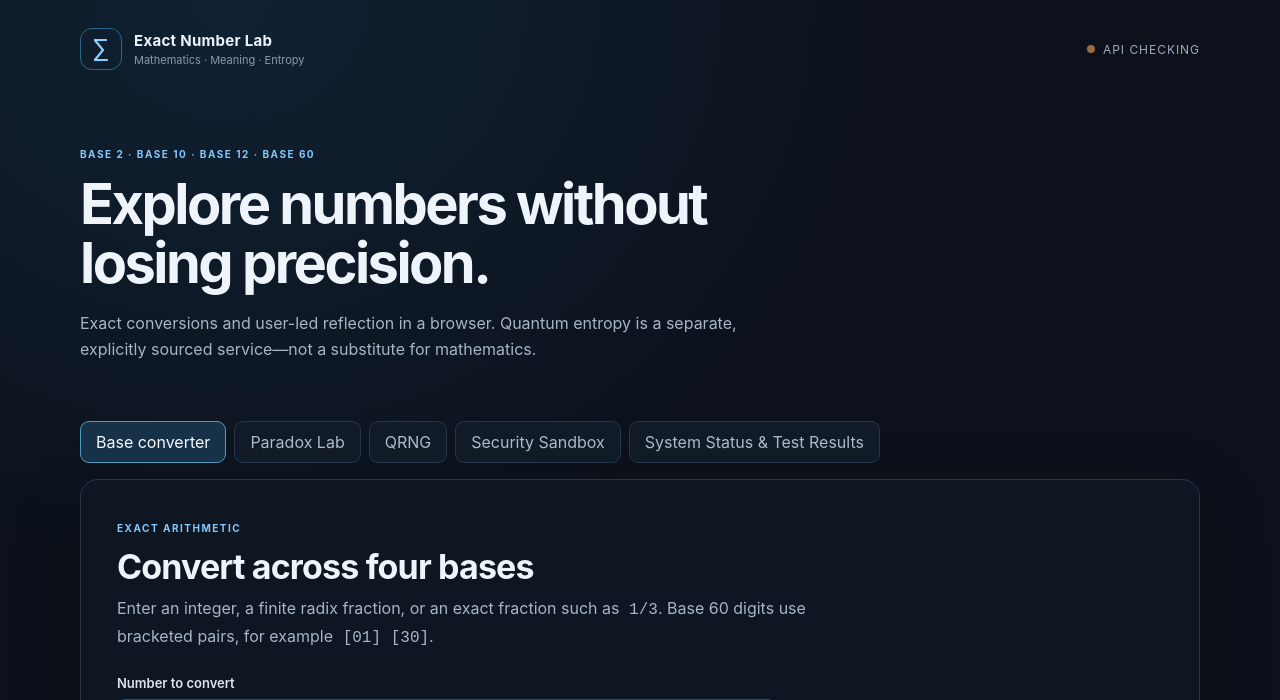
application interactions › rejects QRNG samples with mismatched provenance metadata
Click the button "QRNG". click: (408, 442)
box: x1=369 y1=420 x2=447 y2=462
(page scrolled)
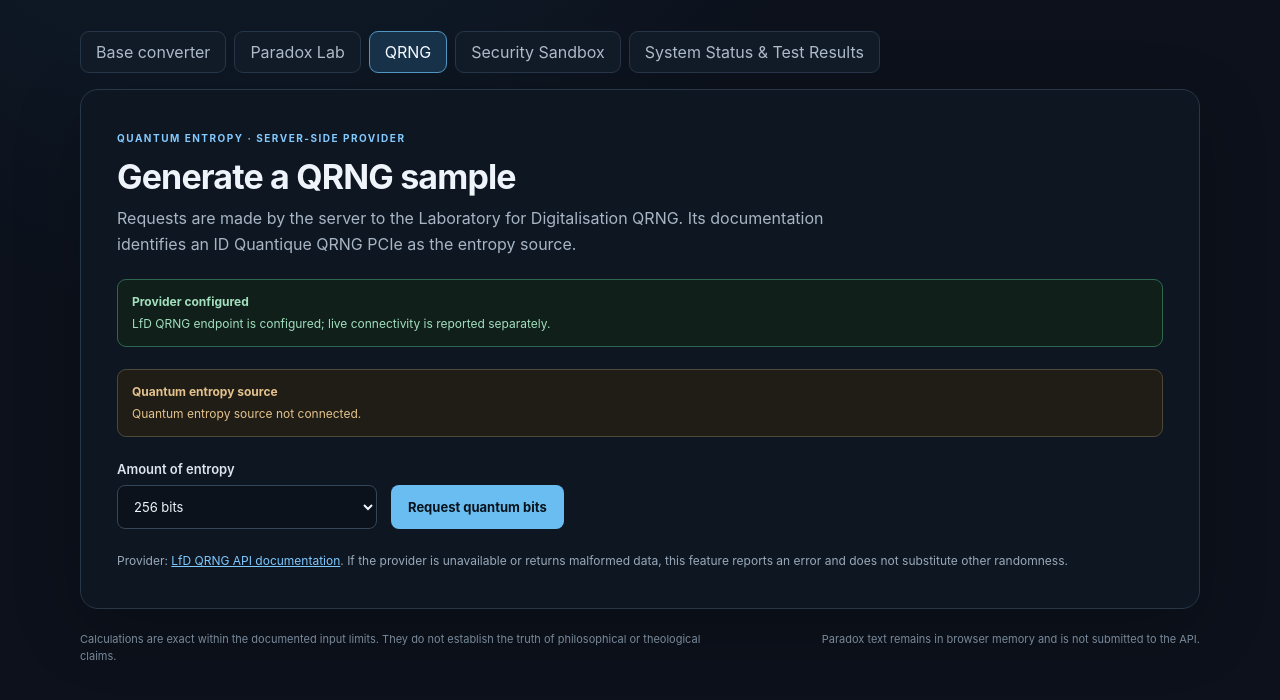
Click the button "Request quantum bits". click: (477, 507)
box: x1=391 y1=485 x2=564 y2=529
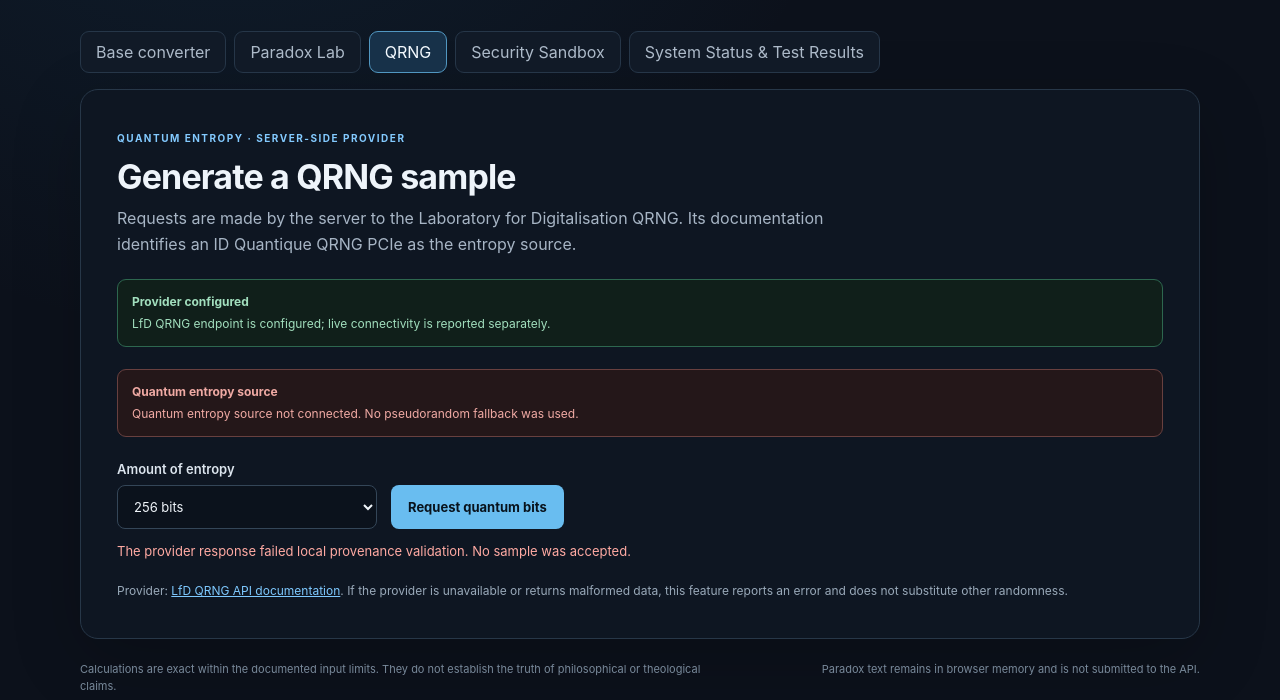
Now the text "provenance validation" is shown, box x1=117 y1=543 x2=631 y2=559
